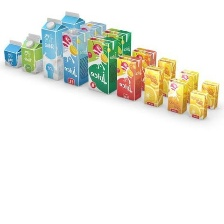carton: (87, 32, 119, 95), (41, 14, 67, 80), (60, 28, 90, 85), (115, 54, 143, 101), (136, 44, 161, 91), (21, 29, 45, 77), (142, 63, 166, 108), (155, 54, 180, 96), (103, 24, 134, 57), (167, 77, 189, 114), (179, 68, 201, 103), (199, 79, 222, 111), (2, 37, 24, 70), (79, 18, 109, 40), (189, 89, 209, 119), (63, 7, 87, 31)
